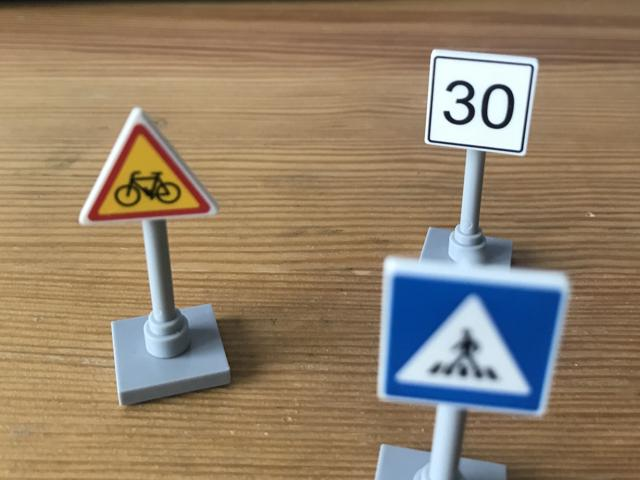fußgängerüberweg: (375, 257, 570, 425)
radfahrer: (75, 105, 218, 229)
tempolimit 30: (420, 46, 543, 156)
